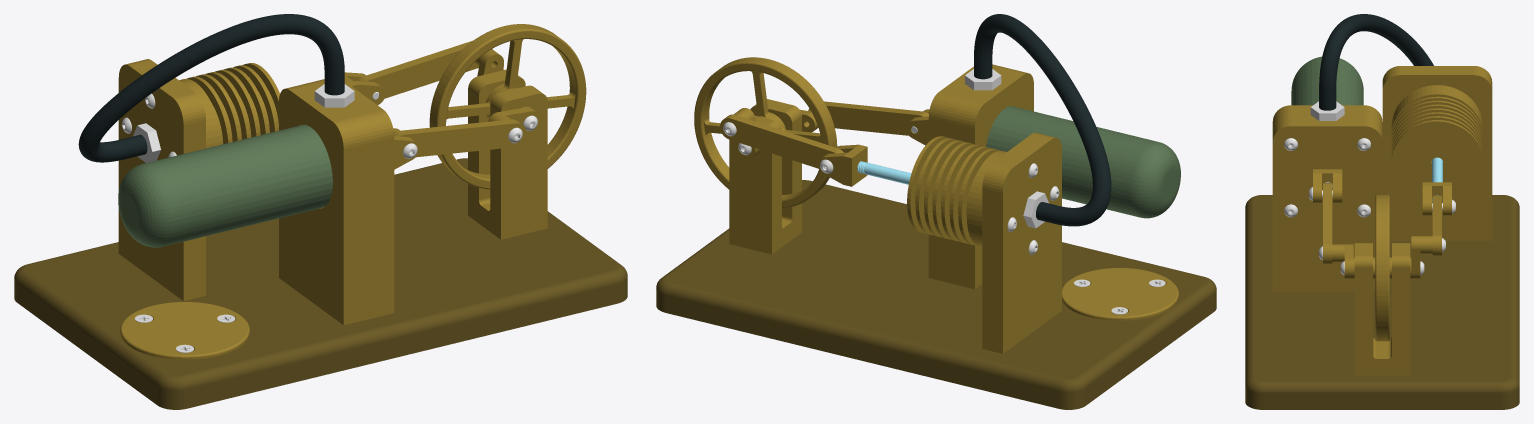
The model's file is Stirling Engine.fbx.
3 renders of one model, left to right at view 1: azimuth 30°, elevation 25°; view 2: azimuth 150°, elevation 25°; view 3: azimuth 270°, elevation 25°, orthographic. The views are drawn at different scales.
Parts seen in each view (by area): view 1: Stirling Engine.SLDASM - P4 Base-1, Stirling Engine.SLDASM - P7 Heater Bracket-1, Stirling Engine.SLDASM - P9 Heater Cylinder-1, Stirling Engine.SLDASM - P2 Flywheel bracket-1, Stirling Engine.SLDASM - P17 Cooler Braket-1, Stirling Engine.SLDASM - P22 Connecting Tube^Stirling Engine, Stirling Engine.SLDASM - P1 Flywheel-1, Stirling Engine.SLDASM - P22 BurnerPlate-1, Stirling Engine.SLDASM - P18 Cooler Cylinder-1, Stirling Engine.SLDASM - P14 Linkage-1, Stirling Engine.SLDASM - P14 Linkage-2, Stirling Engine.SLDASM - P8 Heater Bracket Cover-2 (+5 smaller); view 2: Stirling Engine.SLDASM - P4 Base-1, Stirling Engine.SLDASM - P17 Cooler Braket-1, Stirling Engine.SLDASM - P9 Heater Cylinder-1, Stirling Engine.SLDASM - P2 Flywheel bracket-1, Stirling Engine.SLDASM - P18 Cooler Cylinder-1, Stirling Engine.SLDASM - P7 Heater Bracket-1, Stirling Engine.SLDASM - P22 Connecting Tube^Stirling Engine, Stirling Engine.SLDASM - P1 Flywheel-1, Stirling Engine.SLDASM - P22 BurnerPlate-1, Stirling Engine.SLDASM - P14 Linkage-2, Stirling Engine.SLDASM - P14 Linkage-1, Stirling Engine.SLDASM - P13 Rod Connector-2 (+5 smaller); view 3: Stirling Engine.SLDASM - P4 Base-1, Stirling Engine.SLDASM - P8 Heater Bracket Cover-2, Stirling Engine.SLDASM - P17 Cooler Braket-1, Stirling Engine.SLDASM - P18 Cooler Cylinder-1, Stirling Engine.SLDASM - P2 Flywheel bracket-1, Stirling Engine.SLDASM - P22 Connecting Tube^Stirling Engine, Stirling Engine.SLDASM - P9 Heater Cylinder-1, Stirling Engine.SLDASM - P1 Flywheel-1, Stirling Engine.SLDASM - P7 Heater Bracket-1, Stirling Engine.SLDASM - P13 Rod Connector-2, Stirling Engine.SLDASM - P14 Linkage-1, Stirling Engine.SLDASM - P13 Rod Connector-1 (+5 smaller).
Boxes of the visible parts, x1=… form: Stirling Engine.SLDASM - P4 Base-1: x1=14, y1=158, x2=627, y2=409; Stirling Engine.SLDASM - P7 Heater Bracket-1: x1=279, y1=79, x2=390, y2=325; Stirling Engine.SLDASM - P9 Heater Cylinder-1: x1=118, y1=124, x2=332, y2=247; Stirling Engine.SLDASM - P2 Flywheel bracket-1: x1=468, y1=69, x2=547, y2=239; Stirling Engine.SLDASM - P17 Cooler Braket-1: x1=118, y1=59, x2=205, y2=301; Stirling Engine.SLDASM - P22 Connecting Tube^Stirling Engine: x1=78, y1=14, x2=344, y2=162; Stirling Engine.SLDASM - P1 Flywheel-1: x1=429, y1=24, x2=586, y2=189; Stirling Engine.SLDASM - P22 BurnerPlate-1: x1=120, y1=302, x2=249, y2=359; Stirling Engine.SLDASM - P18 Cooler Cylinder-1: x1=179, y1=63, x2=279, y2=148; Stirling Engine.SLDASM - P14 Linkage-1: x1=394, y1=119, x2=526, y2=157; Stirling Engine.SLDASM - P14 Linkage-2: x1=357, y1=40, x2=492, y2=98; Stirling Engine.SLDASM - P8 Heater Bracket Cover-2: x1=344, y1=81, x2=394, y2=313; Stirling Engine.SLDASM - P4 Base-1: x1=656, y1=180, x2=1216, y2=409; Stirling Engine.SLDASM - P17 Cooler Braket-1: x1=982, y1=132, x2=1061, y2=353; Stirling Engine.SLDASM - P9 Heater Cylinder-1: x1=986, y1=106, x2=1180, y2=218; Stirling Engine.SLDASM - P2 Flywheel bracket-1: x1=729, y1=99, x2=801, y2=254; Stirling Engine.SLDASM - P18 Cooler Cylinder-1: x1=907, y1=136, x2=1006, y2=247; Stirling Engine.SLDASM - P7 Heater Bracket-1: x1=932, y1=64, x2=1033, y2=289; Stirling Engine.SLDASM - P22 Connecting Tube^Stirling Engine: x1=974, y1=14, x2=1111, y2=226; Stirling Engine.SLDASM - P1 Flywheel-1: x1=694, y1=57, x2=837, y2=208; Stirling Engine.SLDASM - P22 BurnerPlate-1: x1=1062, y1=268, x2=1178, y2=320; Stirling Engine.SLDASM - P14 Linkage-2: x1=720, y1=114, x2=843, y2=168; Stirling Engine.SLDASM - P14 Linkage-1: x1=808, y1=101, x2=928, y2=135; Stirling Engine.SLDASM - P13 Rod Connector-2: x1=818, y1=144, x2=867, y2=186; Stirling Engine.SLDASM - P4 Base-1: x1=1245, y1=195, x2=1519, y2=409; Stirling Engine.SLDASM - P8 Heater Bracket Cover-2: x1=1272, y1=124, x2=1382, y2=291; Stirling Engine.SLDASM - P17 Cooler Braket-1: x1=1382, y1=66, x2=1492, y2=240; Stirling Engine.SLDASM - P18 Cooler Cylinder-1: x1=1391, y1=85, x2=1482, y2=201; Stirling Engine.SLDASM - P2 Flywheel bracket-1: x1=1354, y1=243, x2=1410, y2=375; Stirling Engine.SLDASM - P22 Connecting Tube^Stirling Engine: x1=1319, y1=14, x2=1433, y2=110; Stirling Engine.SLDASM - P9 Heater Cylinder-1: x1=1291, y1=56, x2=1363, y2=105; Stirling Engine.SLDASM - P1 Flywheel-1: x1=1375, y1=195, x2=1389, y2=341; Stirling Engine.SLDASM - P7 Heater Bracket-1: x1=1272, y1=105, x2=1382, y2=140; Stirling Engine.SLDASM - P13 Rod Connector-2: x1=1422, y1=182, x2=1451, y2=215; Stirling Engine.SLDASM - P14 Linkage-1: x1=1323, y1=183, x2=1332, y2=264; Stirling Engine.SLDASM - P13 Rod Connector-1: x1=1313, y1=169, x2=1342, y2=202.
Size of the model in its own units: 26499 by 16011 by 15000.
